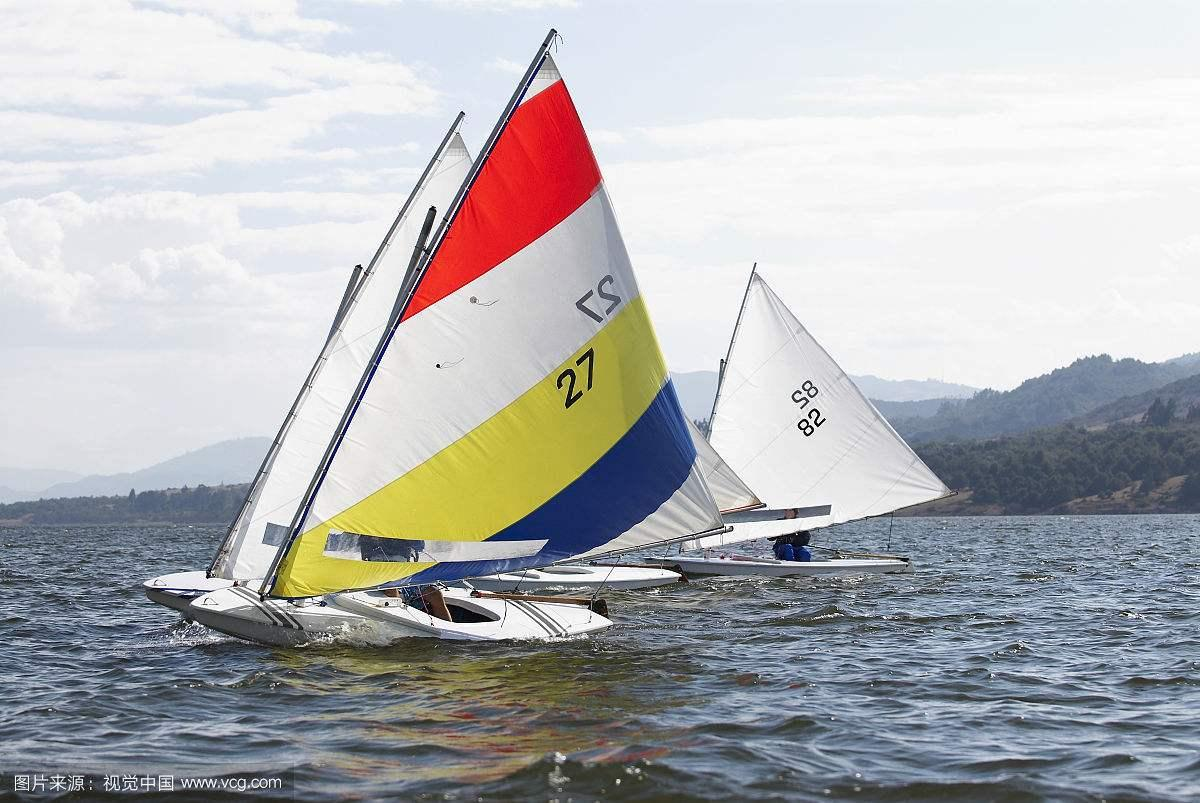fanchuan: (142, 23, 951, 648)
